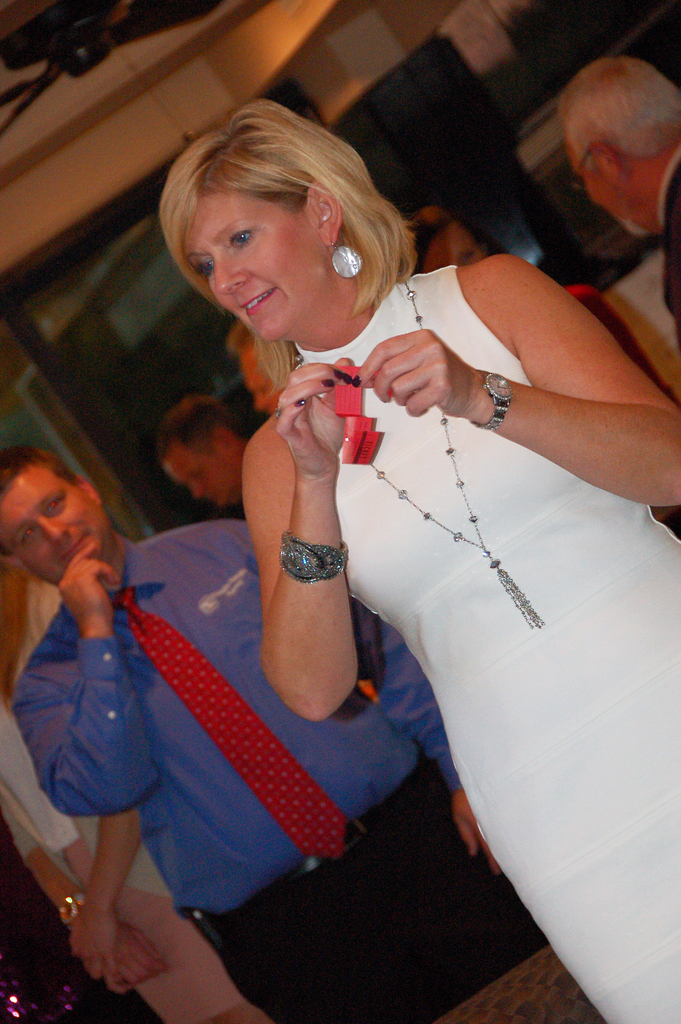Human_hand: (347, 308, 514, 420), (270, 358, 357, 482), (54, 533, 124, 638), (65, 902, 122, 993), (450, 794, 504, 877), (117, 923, 168, 993)
